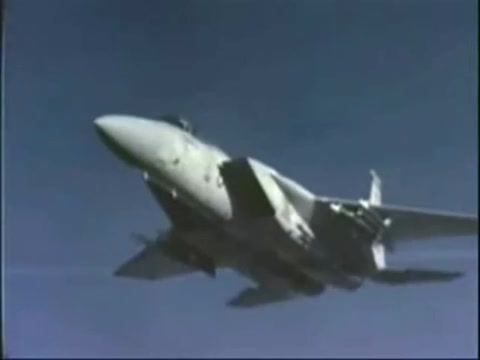aeroplane: (91, 109, 479, 311)
